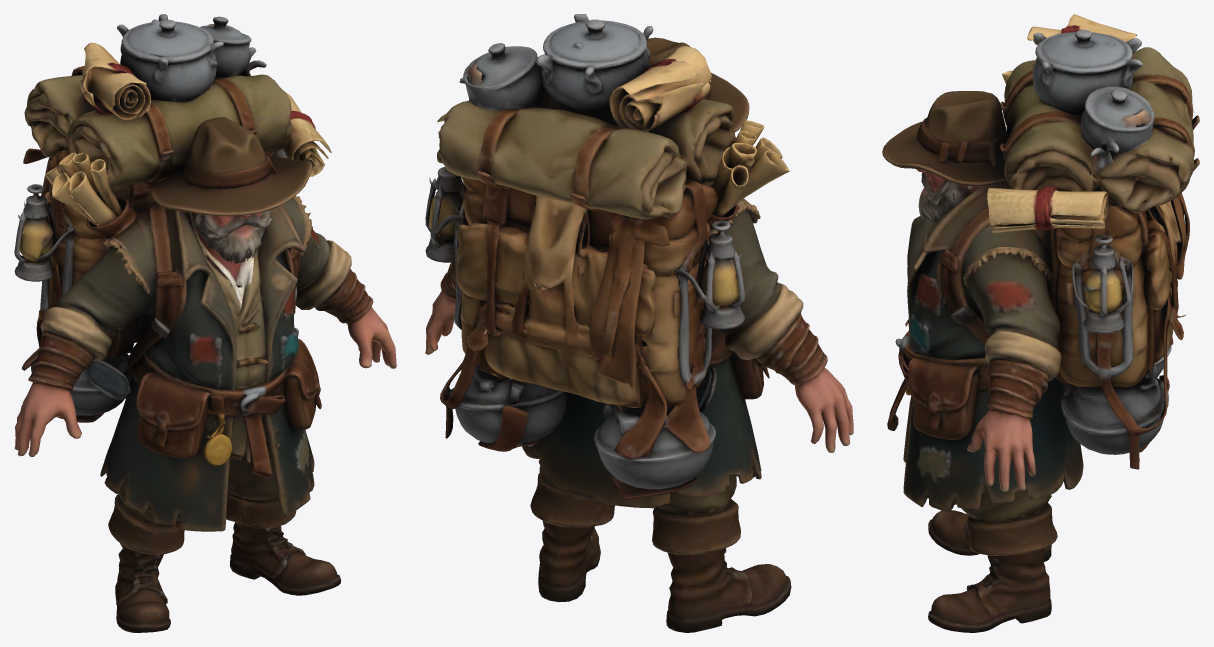
File: model_trellis.glb
The picture shows the model from 3 angles, left to right: view 1: azimuth 30°, elevation 25°; view 2: azimuth 150°, elevation 25°; view 3: azimuth 270°, elevation 25°; orthographic projection. The views are drawn at different scales.
Parts seen in each view (by area): view 1: world; view 2: world; view 3: world.
Part boxes in pixels (x1,y1,x2,y2): world: (14, 14, 396, 632); world: (425, 14, 853, 632); world: (882, 14, 1199, 632).
Size of the model in its own units: 0.725 by 1 by 0.5213.
Materials: 1 (1 with a texture image).
